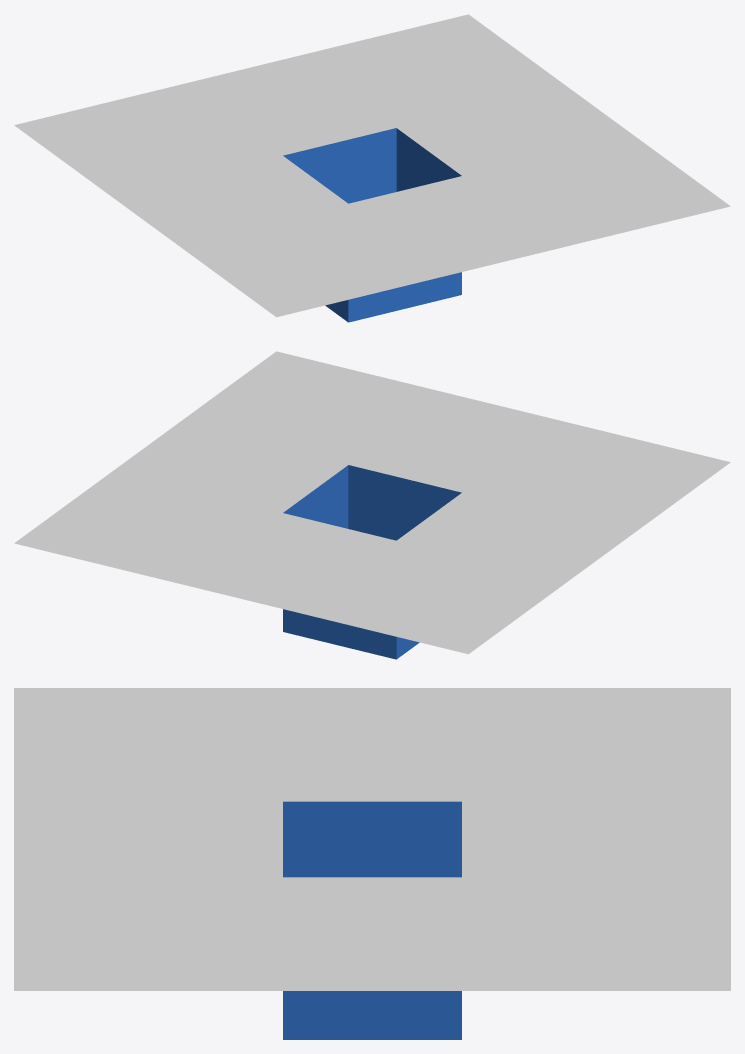
File: FloorBox.glb
3 renders of one model, top to bottom at view 1: azimuth 30°, elevation 25°; view 2: azimuth 150°, elevation 25°; view 3: azimuth 270°, elevation 25°, orthographic. The views are drawn at different scales.
Parts seen in each view (by area): view 1: Outside, Inside; view 2: Outside, Inside; view 3: Outside, Inside.
Part boxes in pixels (bbox=[...]): Outside: bbox=[14, 14, 730, 317]; Inside: bbox=[283, 128, 461, 322]; Outside: bbox=[14, 351, 730, 654]; Inside: bbox=[283, 465, 461, 659]; Outside: bbox=[14, 688, 730, 990]; Inside: bbox=[283, 801, 461, 1039].
Bounding box in the file's own units: 4 × 1 × 4.
